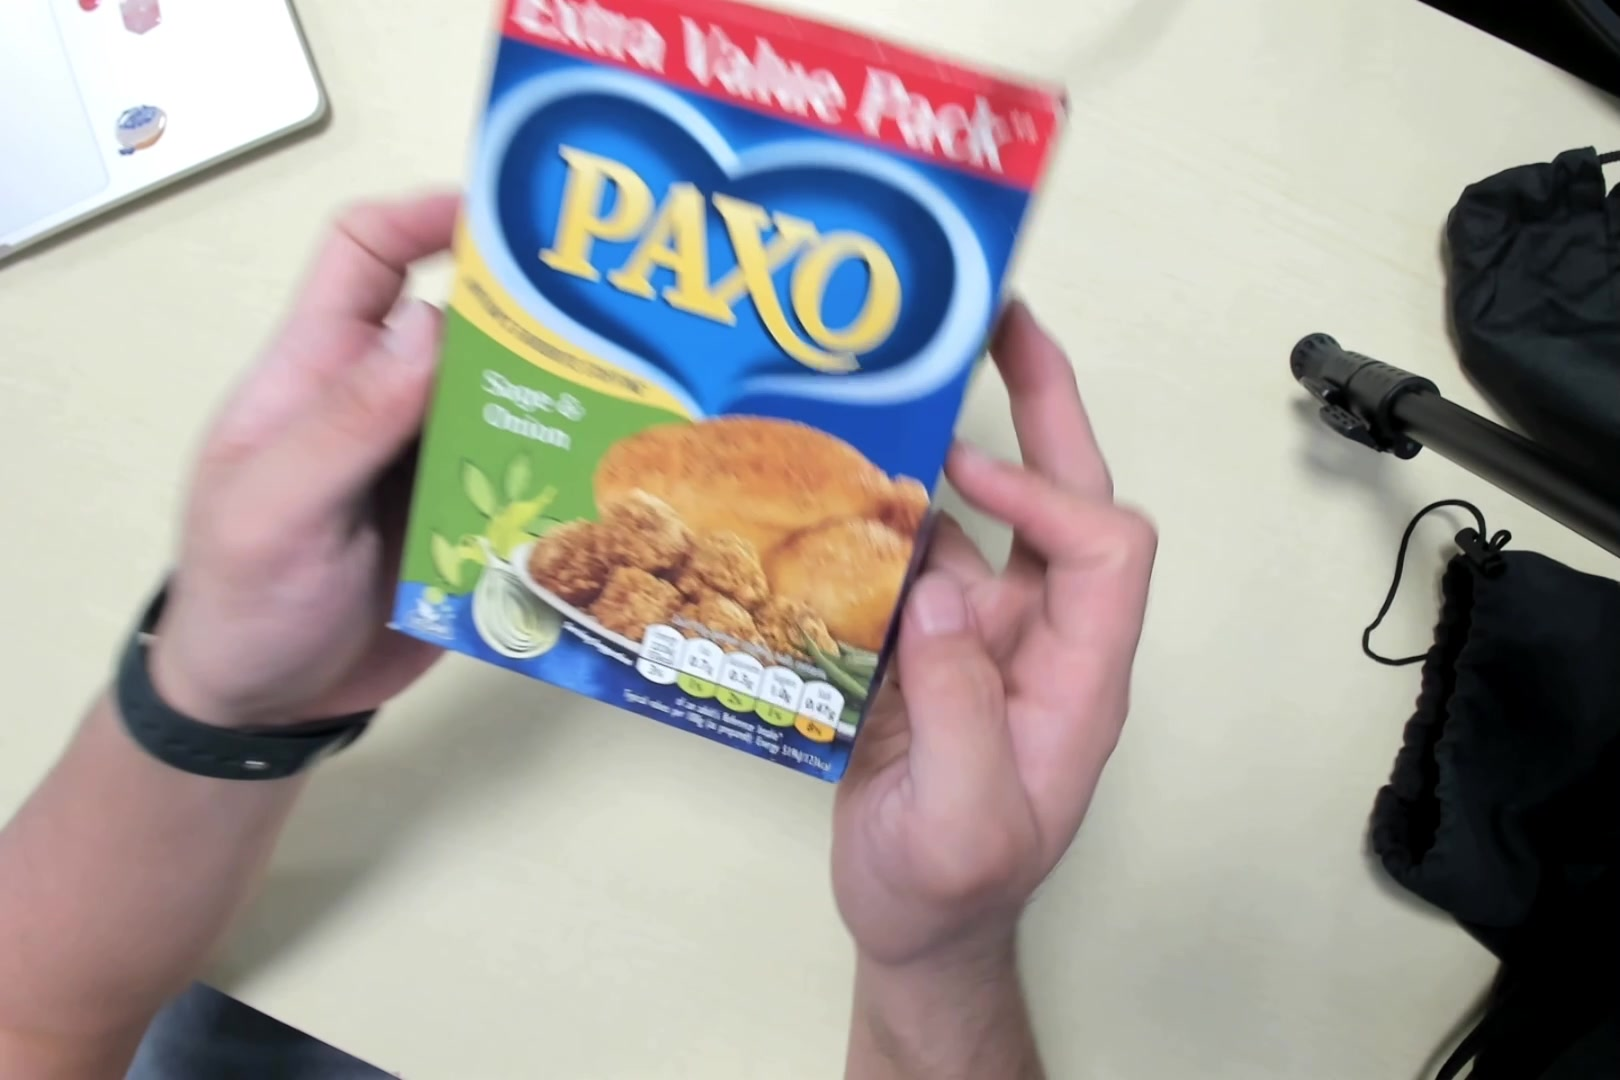OtherBakingNeeds_300-399g_NonHalal_NonHealthy: (392, 1, 1067, 790)
